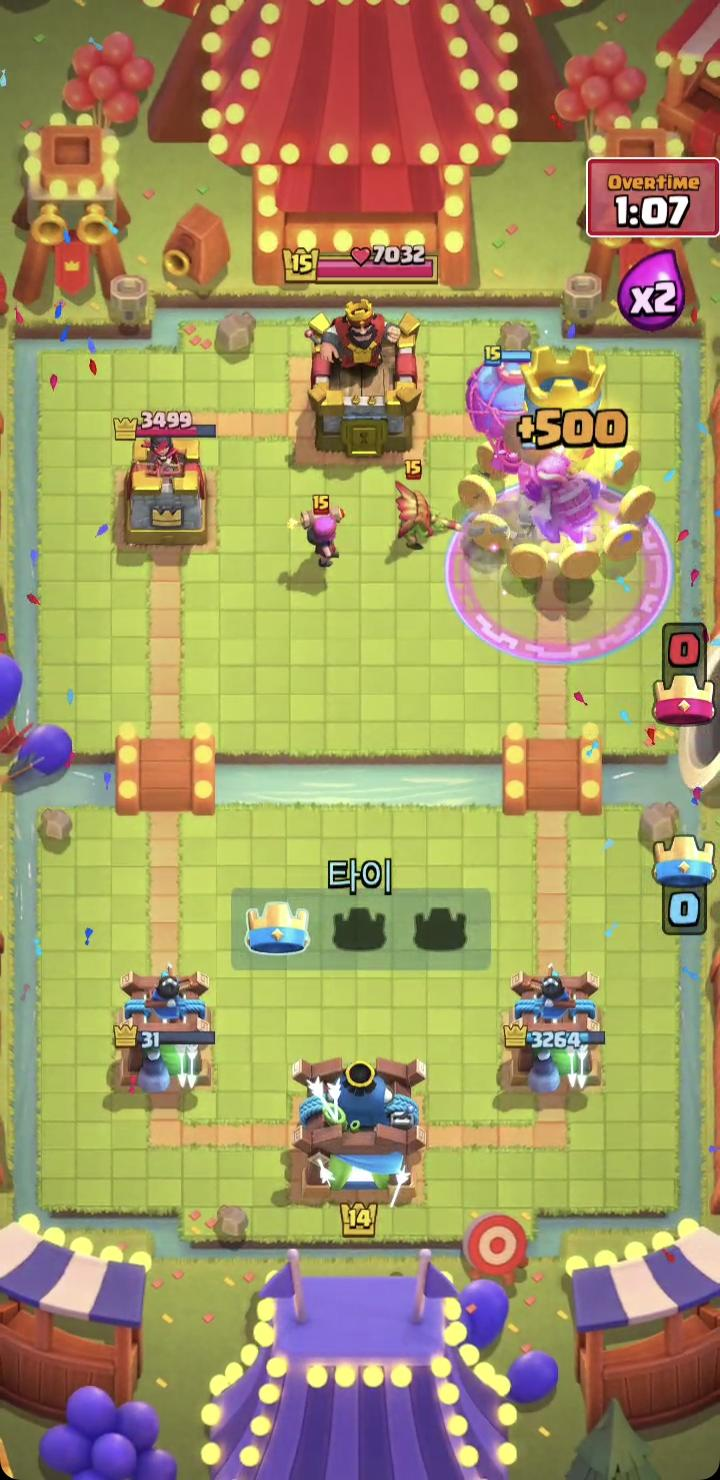ally_balloon: (463, 344, 568, 476)
ally_infernodragon: (503, 437, 604, 547)
enemy_dart_goblin: (393, 457, 464, 551)
enemy_firecracker: (285, 491, 350, 569)
